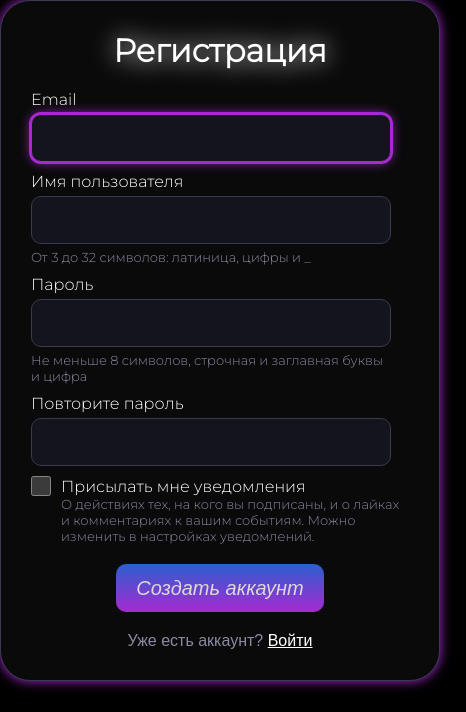
RegisterForm › validates every field on the client and re-checks while typing
Step 1. Type "Neo@Matrix.io" into the field labelled "Email" → {"x": 211, "y": 138}, box [31,114,391,162]
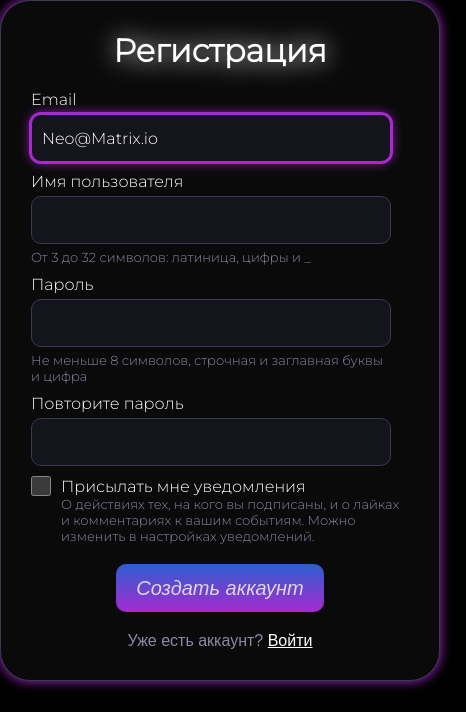
Step 2. Type "Neo" into the field labelled "Имя пользователя" → {"x": 211, "y": 220}, box [31,196,391,244]
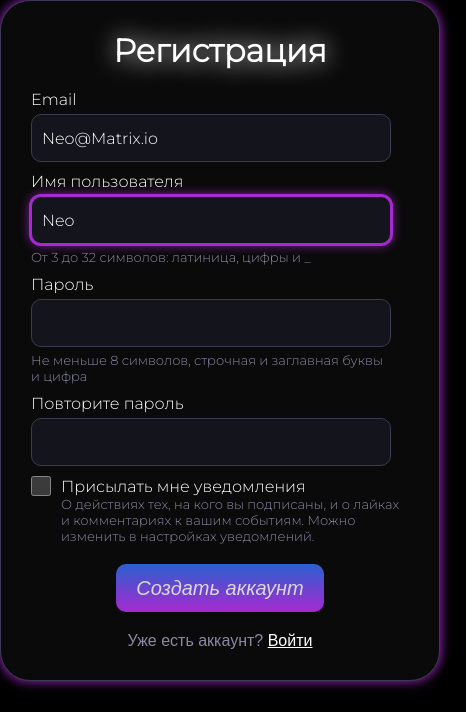
Step 3. Type "weak" into the password field labelled "Пароль" → {"x": 211, "y": 323}, box [31,299,391,347]
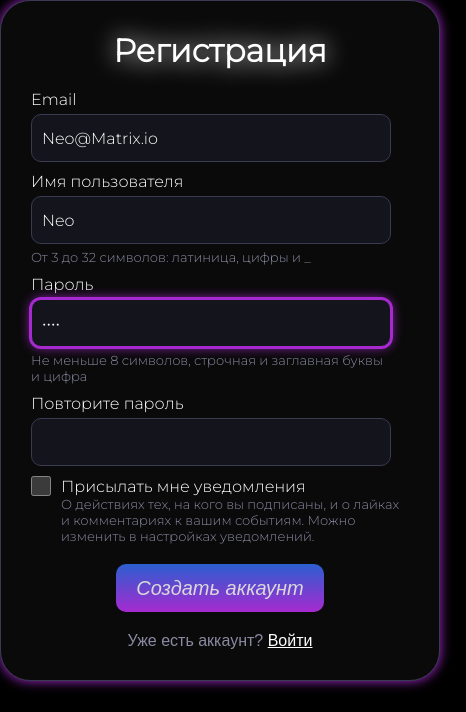
Step 4. Type "Other1Rabbit" into the password field labelled "Повторите пароль" → {"x": 211, "y": 442}, box [31,418,391,466]
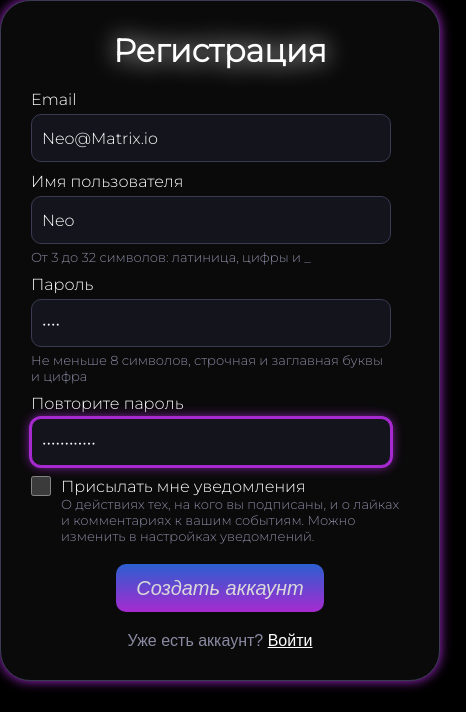
Step 5. Click the button "Создать аккаунт" → {"x": 220, "y": 588}, box [116,564,324,612]
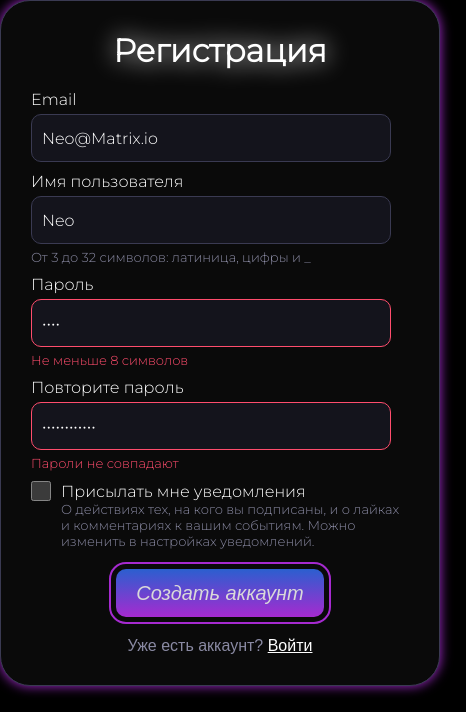
Expected: the text "Не меньше 8 символов" is shown, [31,352,188,368]
Result: the text "Пароли не совпадают" is shown at [31,455,179,471]
Step 6. Type "Other1Rabbit" into the password field labelled "Пароль" → {"x": 211, "y": 323}, box [31,299,391,347]
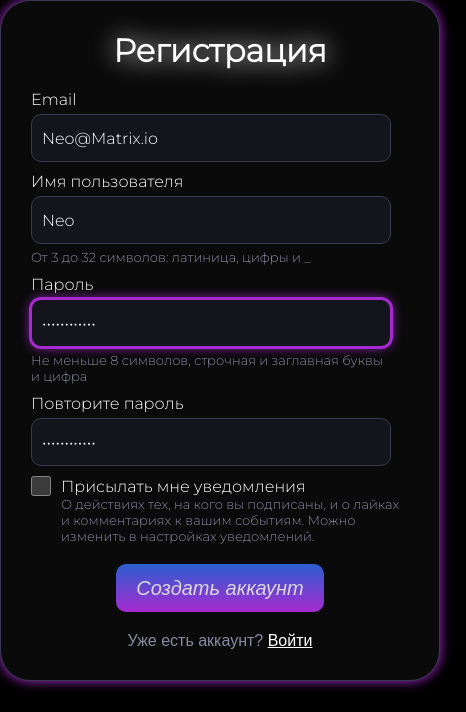
Result: the text "Пароли не совпадают" is gone
